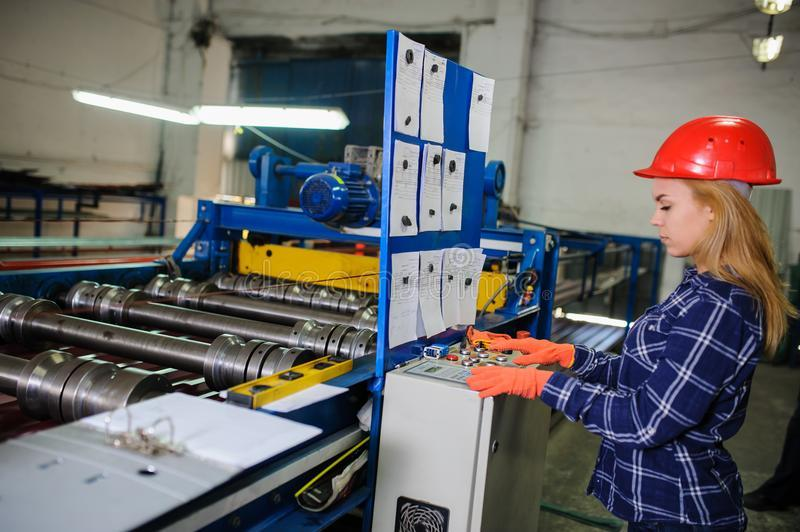helmet: (633, 113, 785, 186)
